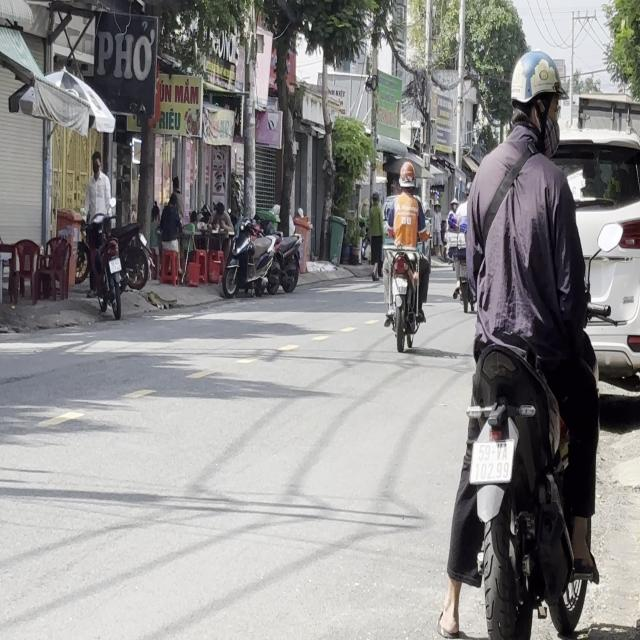helmet: (508, 50, 564, 150), (398, 159, 415, 192)
licenseplate: (441, 47, 612, 635), (380, 158, 430, 352)
nohelmet: (470, 440, 512, 481), (393, 277, 407, 293)
